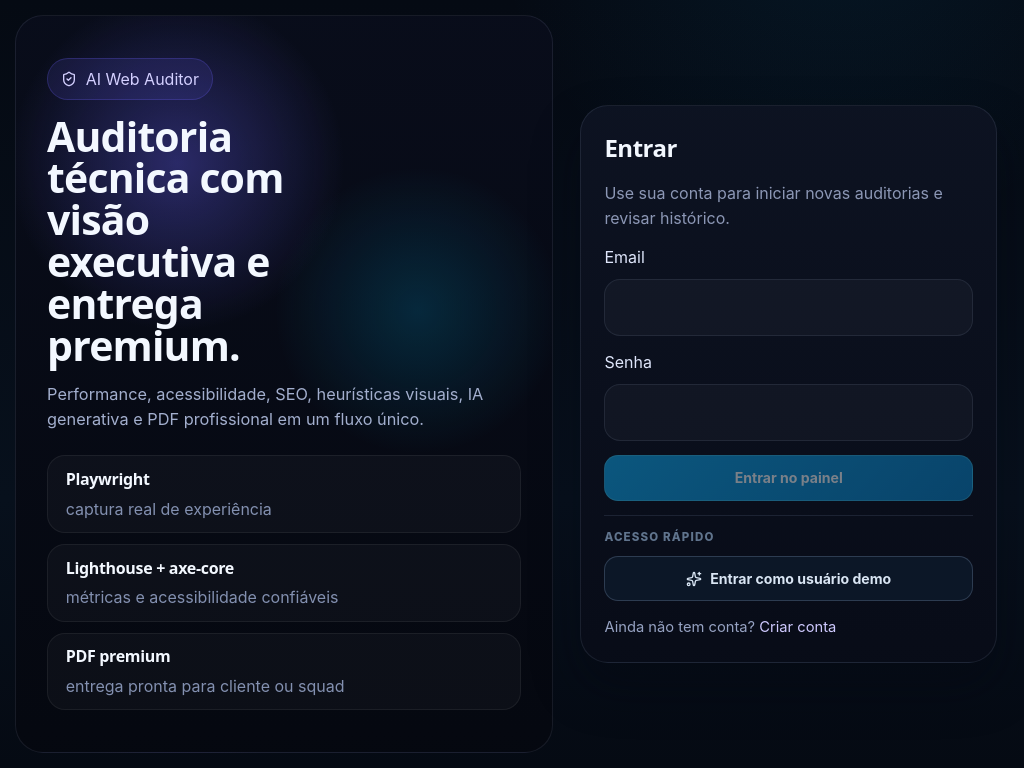
Test case: trata falha do demo sem deixar o botão preso
The width and height of the screenshot is (1024, 768).
Click the button "Entrar como usuário demo": (789, 579) [604,556,973,601]
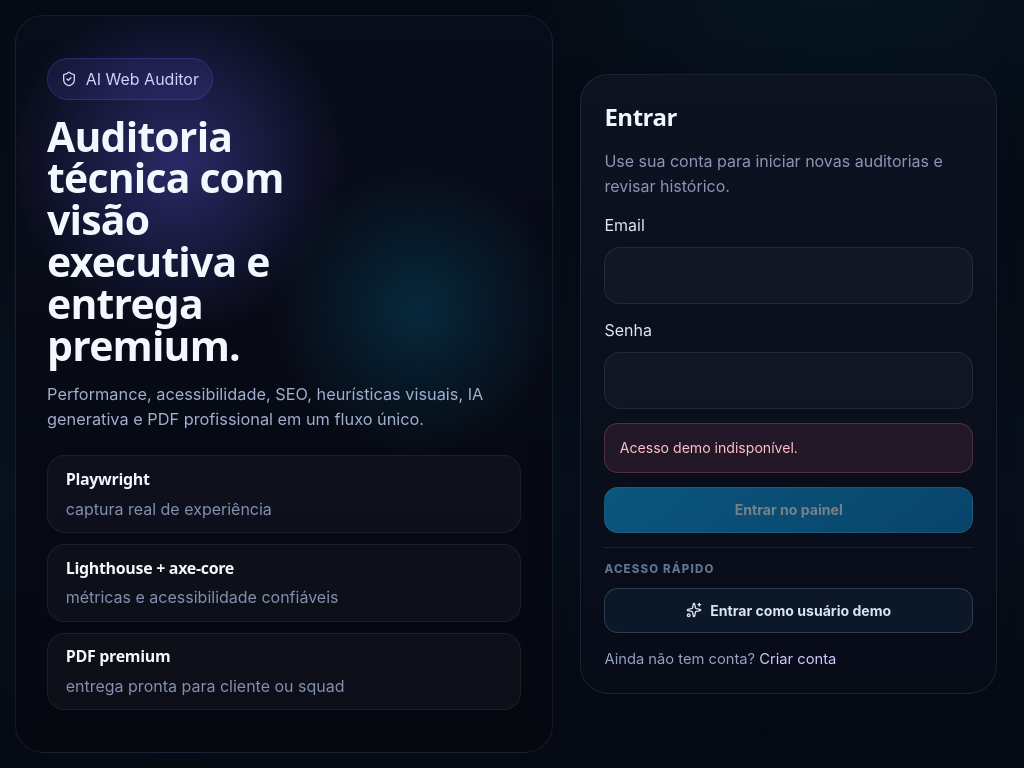
Expected: the button "Entrar como usuário demo" is enabled, [604,588,973,633]
Expected: the text "Acesso demo indisponível." is shown, [604,424,973,473]
